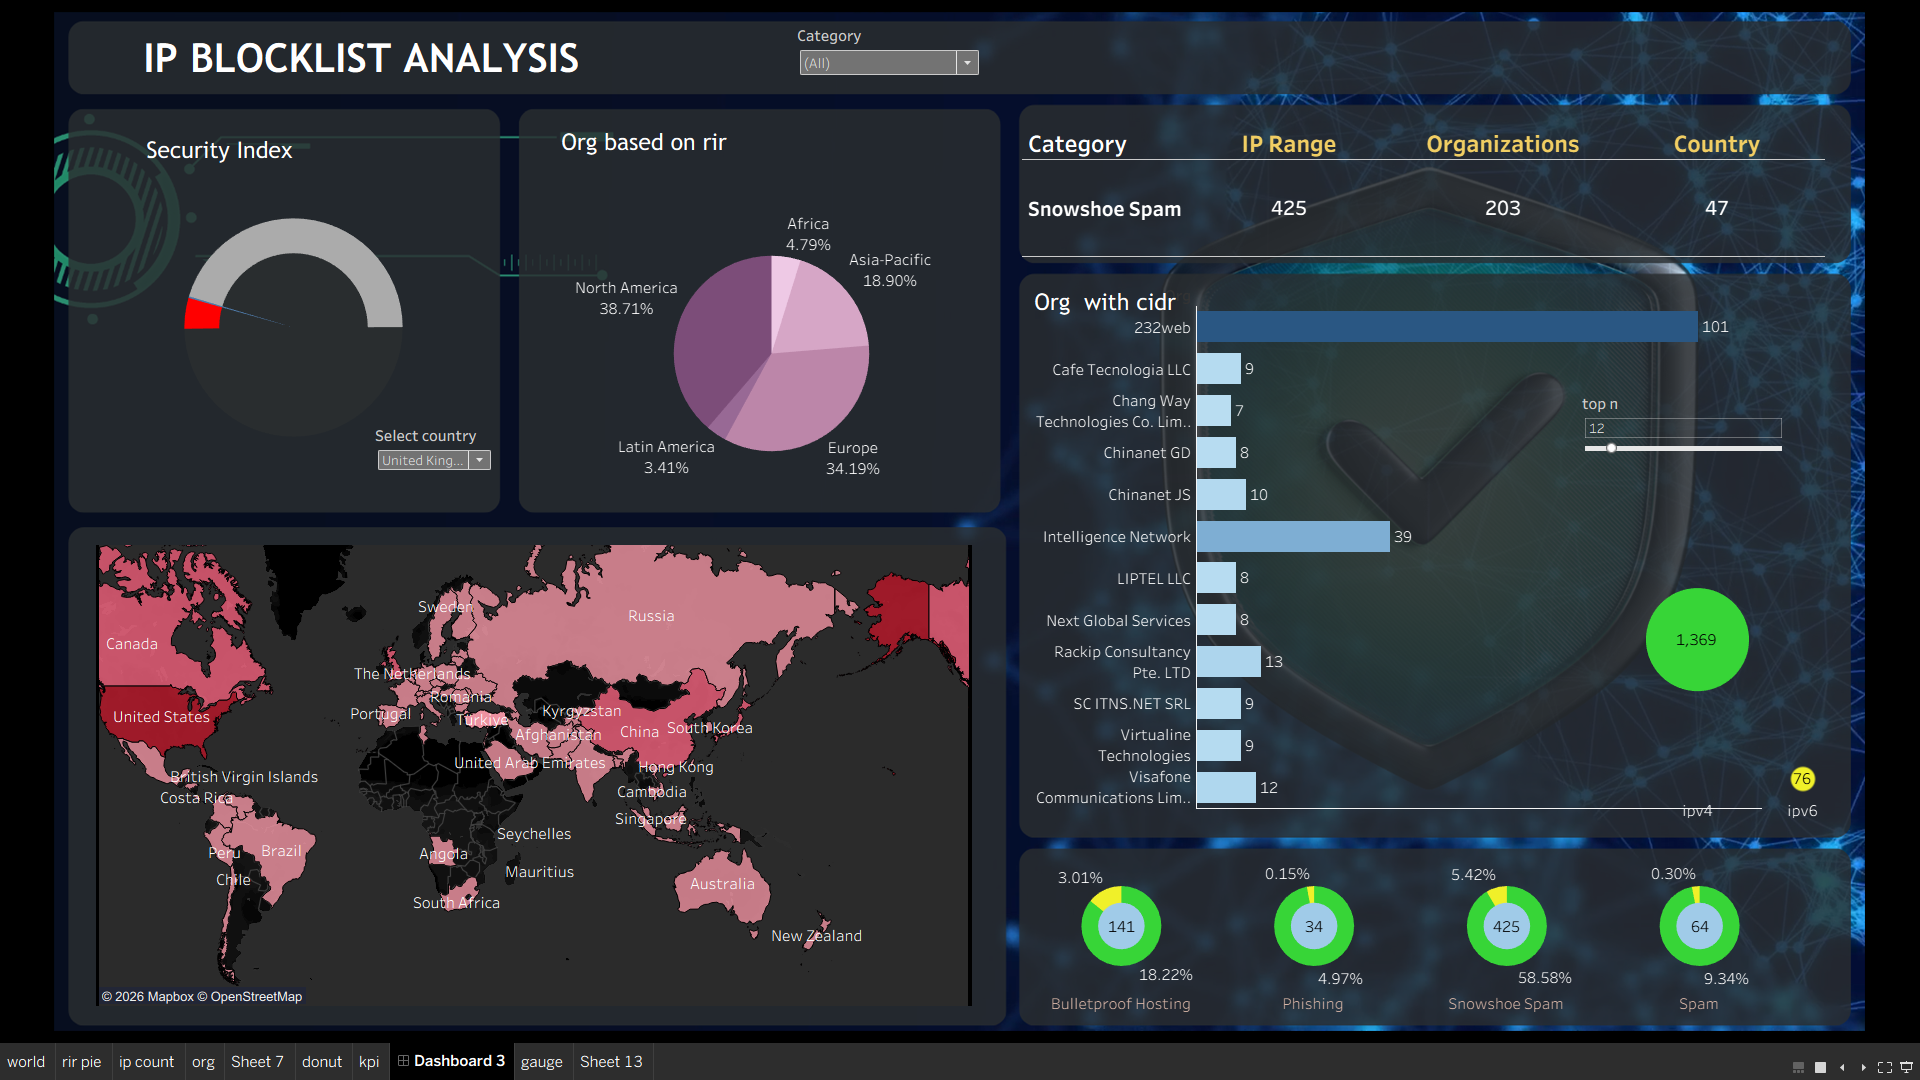

Layout of this report page (visuals, bound fields, positions):
{"tool":"tableau","page":{"name":"Dashboard 3","canvas":[1000,1000],"units":"permille","ordinal":0},"visuals":[{"type":"image","param":"Image/Screenshot (53).png","box":[4.8,9.4,990.3,981.2]},{"type":"filter","title":"world","param":"[federated.1s9gfis0s7ckay155s9ag0wp8epe].[none:category:nk]","box":[415.2,23.5,96.6,71.7]},{"type":"text","box":[73.1,30.6,281.8,49.4]},{"type":"text","box":[290.8,111.6,149.3,49.4]},{"type":"worksheet","title":"kpi","mark":"Text","rows":["category"],"box":[532.4,114,418.5,132.8]},{"type":"text","box":[74.3,118.7,149.3,49.4]},{"type":"worksheet","title":"rir pie","mark":"Pie","box":[289.1,151.6,225.7,374.9]},{"type":"worksheet","title":"gauge","mark":"Pie","rows":["Calculation_836543697731977242","Calculation_836543697731977242"],"box":[64.2,157.5,177.5,313.8]},{"type":"text","box":[537.2,264.4,149.3,49.4]},{"type":"worksheet","title":"org","mark":"Automatic","rows":["org"],"cols":["cidr"],"box":[539.5,273.8,378.4,513.5]},{"type":"parameter","param":"[Parameters].[Parameter 1]","box":[823.8,377.2,105.6,83.4]},{"type":"parameter","param":"[Parameters].[Parameter 2]","box":[195.5,407.8,62.2,62.3]},{"type":"worksheet","title":"world","mark":"Automatic","box":[50.1,522.9,456.2,441.8]},{"type":"worksheet","title":"ip count","mark":"Circle","rows":["cidr"],"cols":["Table Name"],"box":[857,559.3,109.2,225.6]},{"type":"worksheet","title":"donut","mark":"Pie","rows":["Calculation_1360931578976161793","Calculation_1360931578976161793"],"cols":["category"],"box":[534.1,826.1,401.3,144.5]}]}

Visuals, with their boxes on the dashboard's canvas, which has no fixed pixel size, in thousandths of its width and height (x1, y1, x2, y2). These are canvas units, not pixel positions in the 1920x1080 screenshot, which may show the page scaled, cropped or inside an application window:
image: x1=5 y1=9 x2=995 y2=991
"world" filter: x1=415 y1=24 x2=512 y2=95
text: x1=73 y1=31 x2=355 y2=80
text: x1=291 y1=112 x2=440 y2=161
"kpi" worksheet (Text marks): x1=532 y1=114 x2=951 y2=247
text: x1=74 y1=119 x2=224 y2=168
"rir pie" worksheet (Pie marks): x1=289 y1=152 x2=515 y2=526
"gauge" worksheet (Pie marks): x1=64 y1=158 x2=242 y2=471
text: x1=537 y1=264 x2=686 y2=314
"org" worksheet: x1=540 y1=274 x2=918 y2=787
parameter: x1=824 y1=377 x2=929 y2=461
parameter: x1=196 y1=408 x2=258 y2=470
"world" worksheet: x1=50 y1=523 x2=506 y2=965
"ip count" worksheet (Circle marks): x1=857 y1=559 x2=966 y2=785
"donut" worksheet (Pie marks): x1=534 y1=826 x2=935 y2=971
